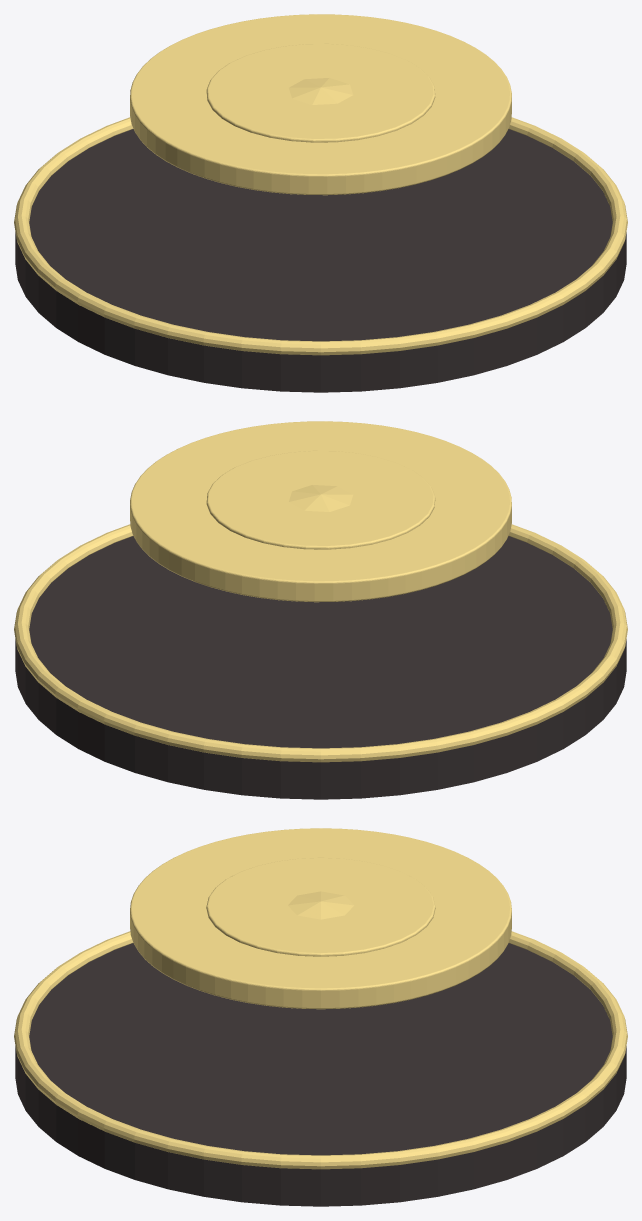
The model's file is st_petersburg_coin.glb.
The picture shows the model from 3 angles, top to bottom: view 1: azimuth 30°, elevation 25°; view 2: azimuth 150°, elevation 25°; view 3: azimuth 270°, elevation 25°; orthographic projection.
Parts seen in each view (by area): view 1: CasinoPedestal, CoinMesh, BrassTrim; view 2: CasinoPedestal, CoinMesh, BrassTrim; view 3: CasinoPedestal, CoinMesh, BrassTrim.
Part boxes in pixels (<box>): CasinoPedestal: <box>15,129,626,392</box>; CoinMesh: <box>130,14,511,195</box>; BrassTrim: <box>14,117,627,355</box>; CasinoPedestal: <box>15,536,626,799</box>; CoinMesh: <box>130,421,511,602</box>; BrassTrim: <box>14,524,627,762</box>; CasinoPedestal: <box>15,943,626,1206</box>; CoinMesh: <box>130,828,511,1009</box>; BrassTrim: <box>14,931,627,1169</box>.
Size of the model in its own units: 4.82 by 1.53 by 4.82.
